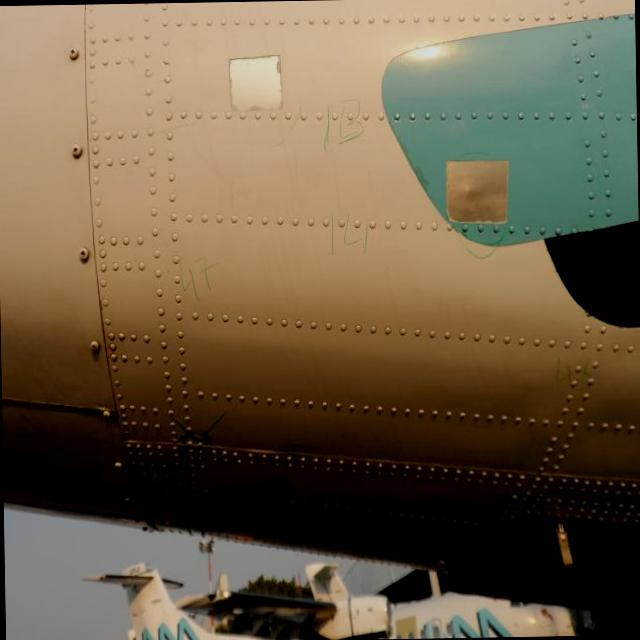dent: (453, 174, 499, 218)
